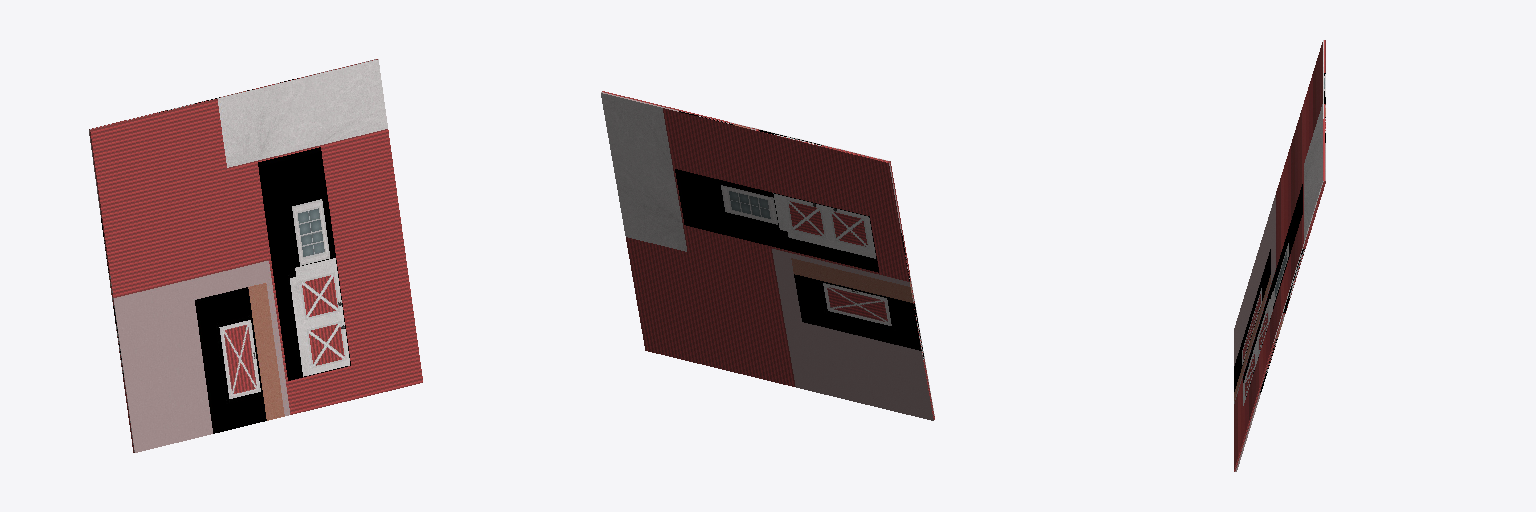
The picture shows the model from 3 angles: view 1: azimuth 30°, elevation 25°; view 2: azimuth 150°, elevation 25°; view 3: azimuth 270°, elevation 25°; orthographic projection.
Visible parts, largest first — view 1: Plane_Plane.010; view 2: Plane_Plane.010; view 3: Plane_Plane.010.
Boxes of the visible parts, box(x1,y1,x2,y2) form: Plane_Plane.010: box(89, 59, 422, 452); Plane_Plane.010: box(601, 91, 934, 420); Plane_Plane.010: box(1234, 40, 1325, 471).
Bounding box in the file's own units: 10 × 9.66 × 2.78.
1 materials, 1 textured.